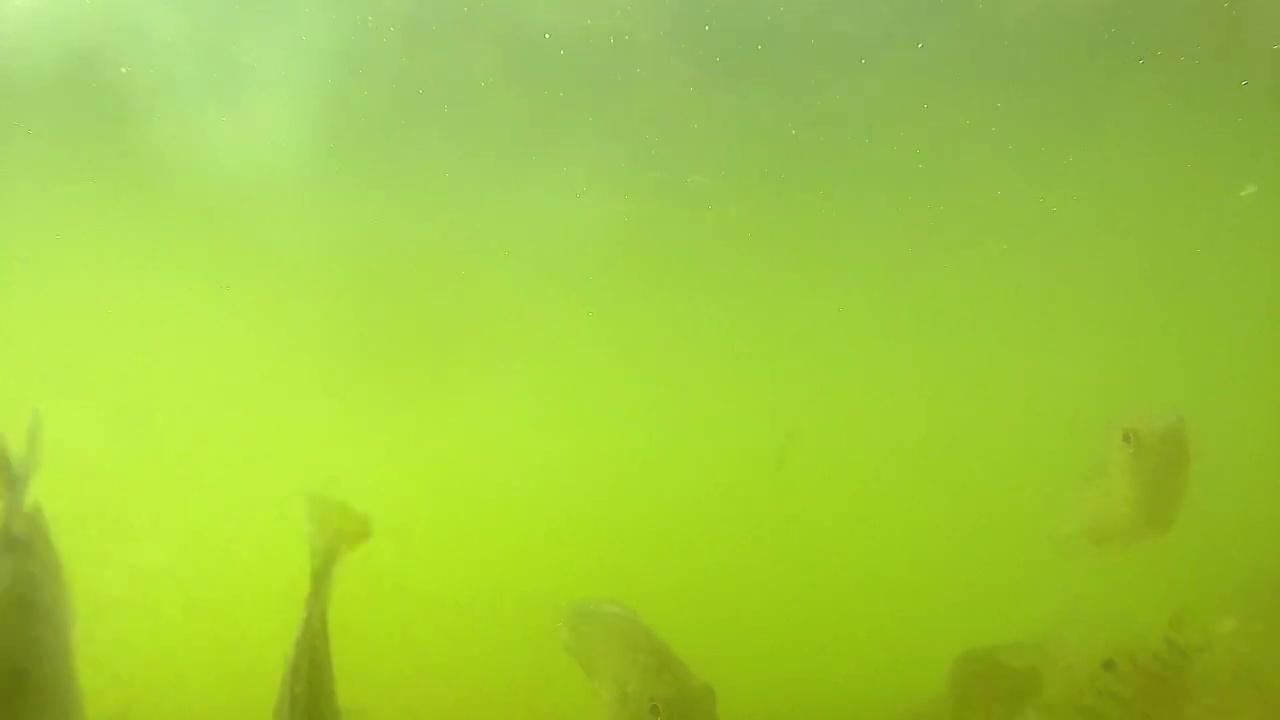Tilapia: (1071, 404, 1198, 550)
